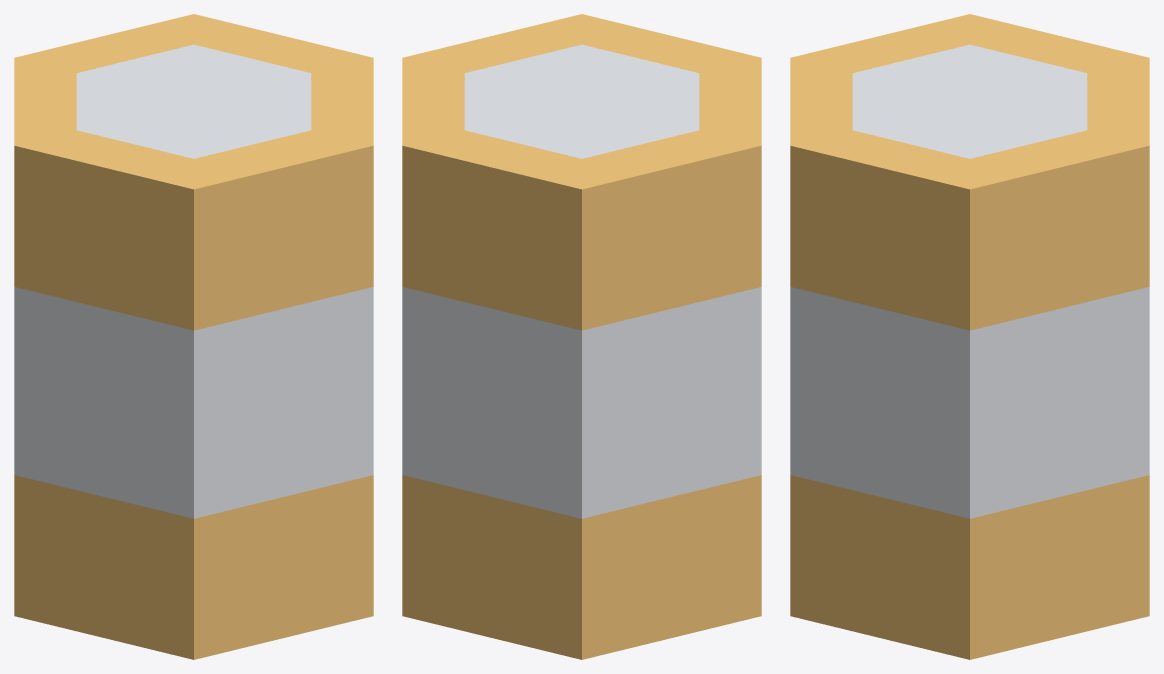
Rendered from barrel.003_lev1.glb.
3 views of the same model, side by side, from view 1: azimuth 30°, elevation 25°; view 2: azimuth 150°, elevation 25°; view 3: azimuth 270°, elevation 25° (orthographic).
Visible parts, largest first — view 1: barrel.003_lev1; view 2: barrel.003_lev1; view 3: barrel.003_lev1.
Part boxes in pixels (x1,y1,x2,y2): barrel.003_lev1: [14, 14, 373, 659]; barrel.003_lev1: [402, 14, 761, 659]; barrel.003_lev1: [790, 14, 1149, 659].
Bounding box in the file's own units: 0.2 × 0.25 × 0.1732.
